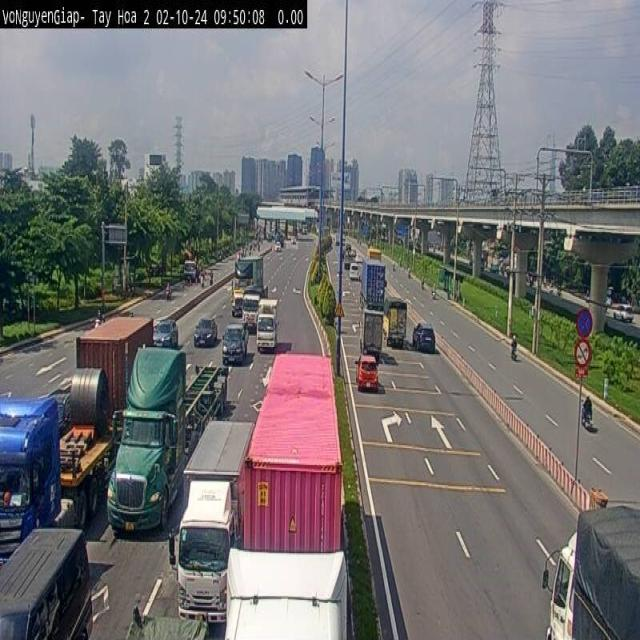car: (0, 528, 94, 640), (220, 320, 250, 367), (356, 350, 381, 396), (414, 316, 438, 356), (194, 318, 218, 348), (349, 262, 361, 280)
container-truck: (0, 316, 155, 569), (224, 353, 348, 640), (107, 347, 229, 532), (361, 244, 389, 310)
motorcycle: (579, 419, 599, 440), (508, 342, 524, 365)
person: (582, 383, 600, 418)
truck: (177, 418, 255, 622), (551, 484, 640, 640), (384, 295, 411, 351), (257, 297, 279, 354), (359, 309, 383, 359)
